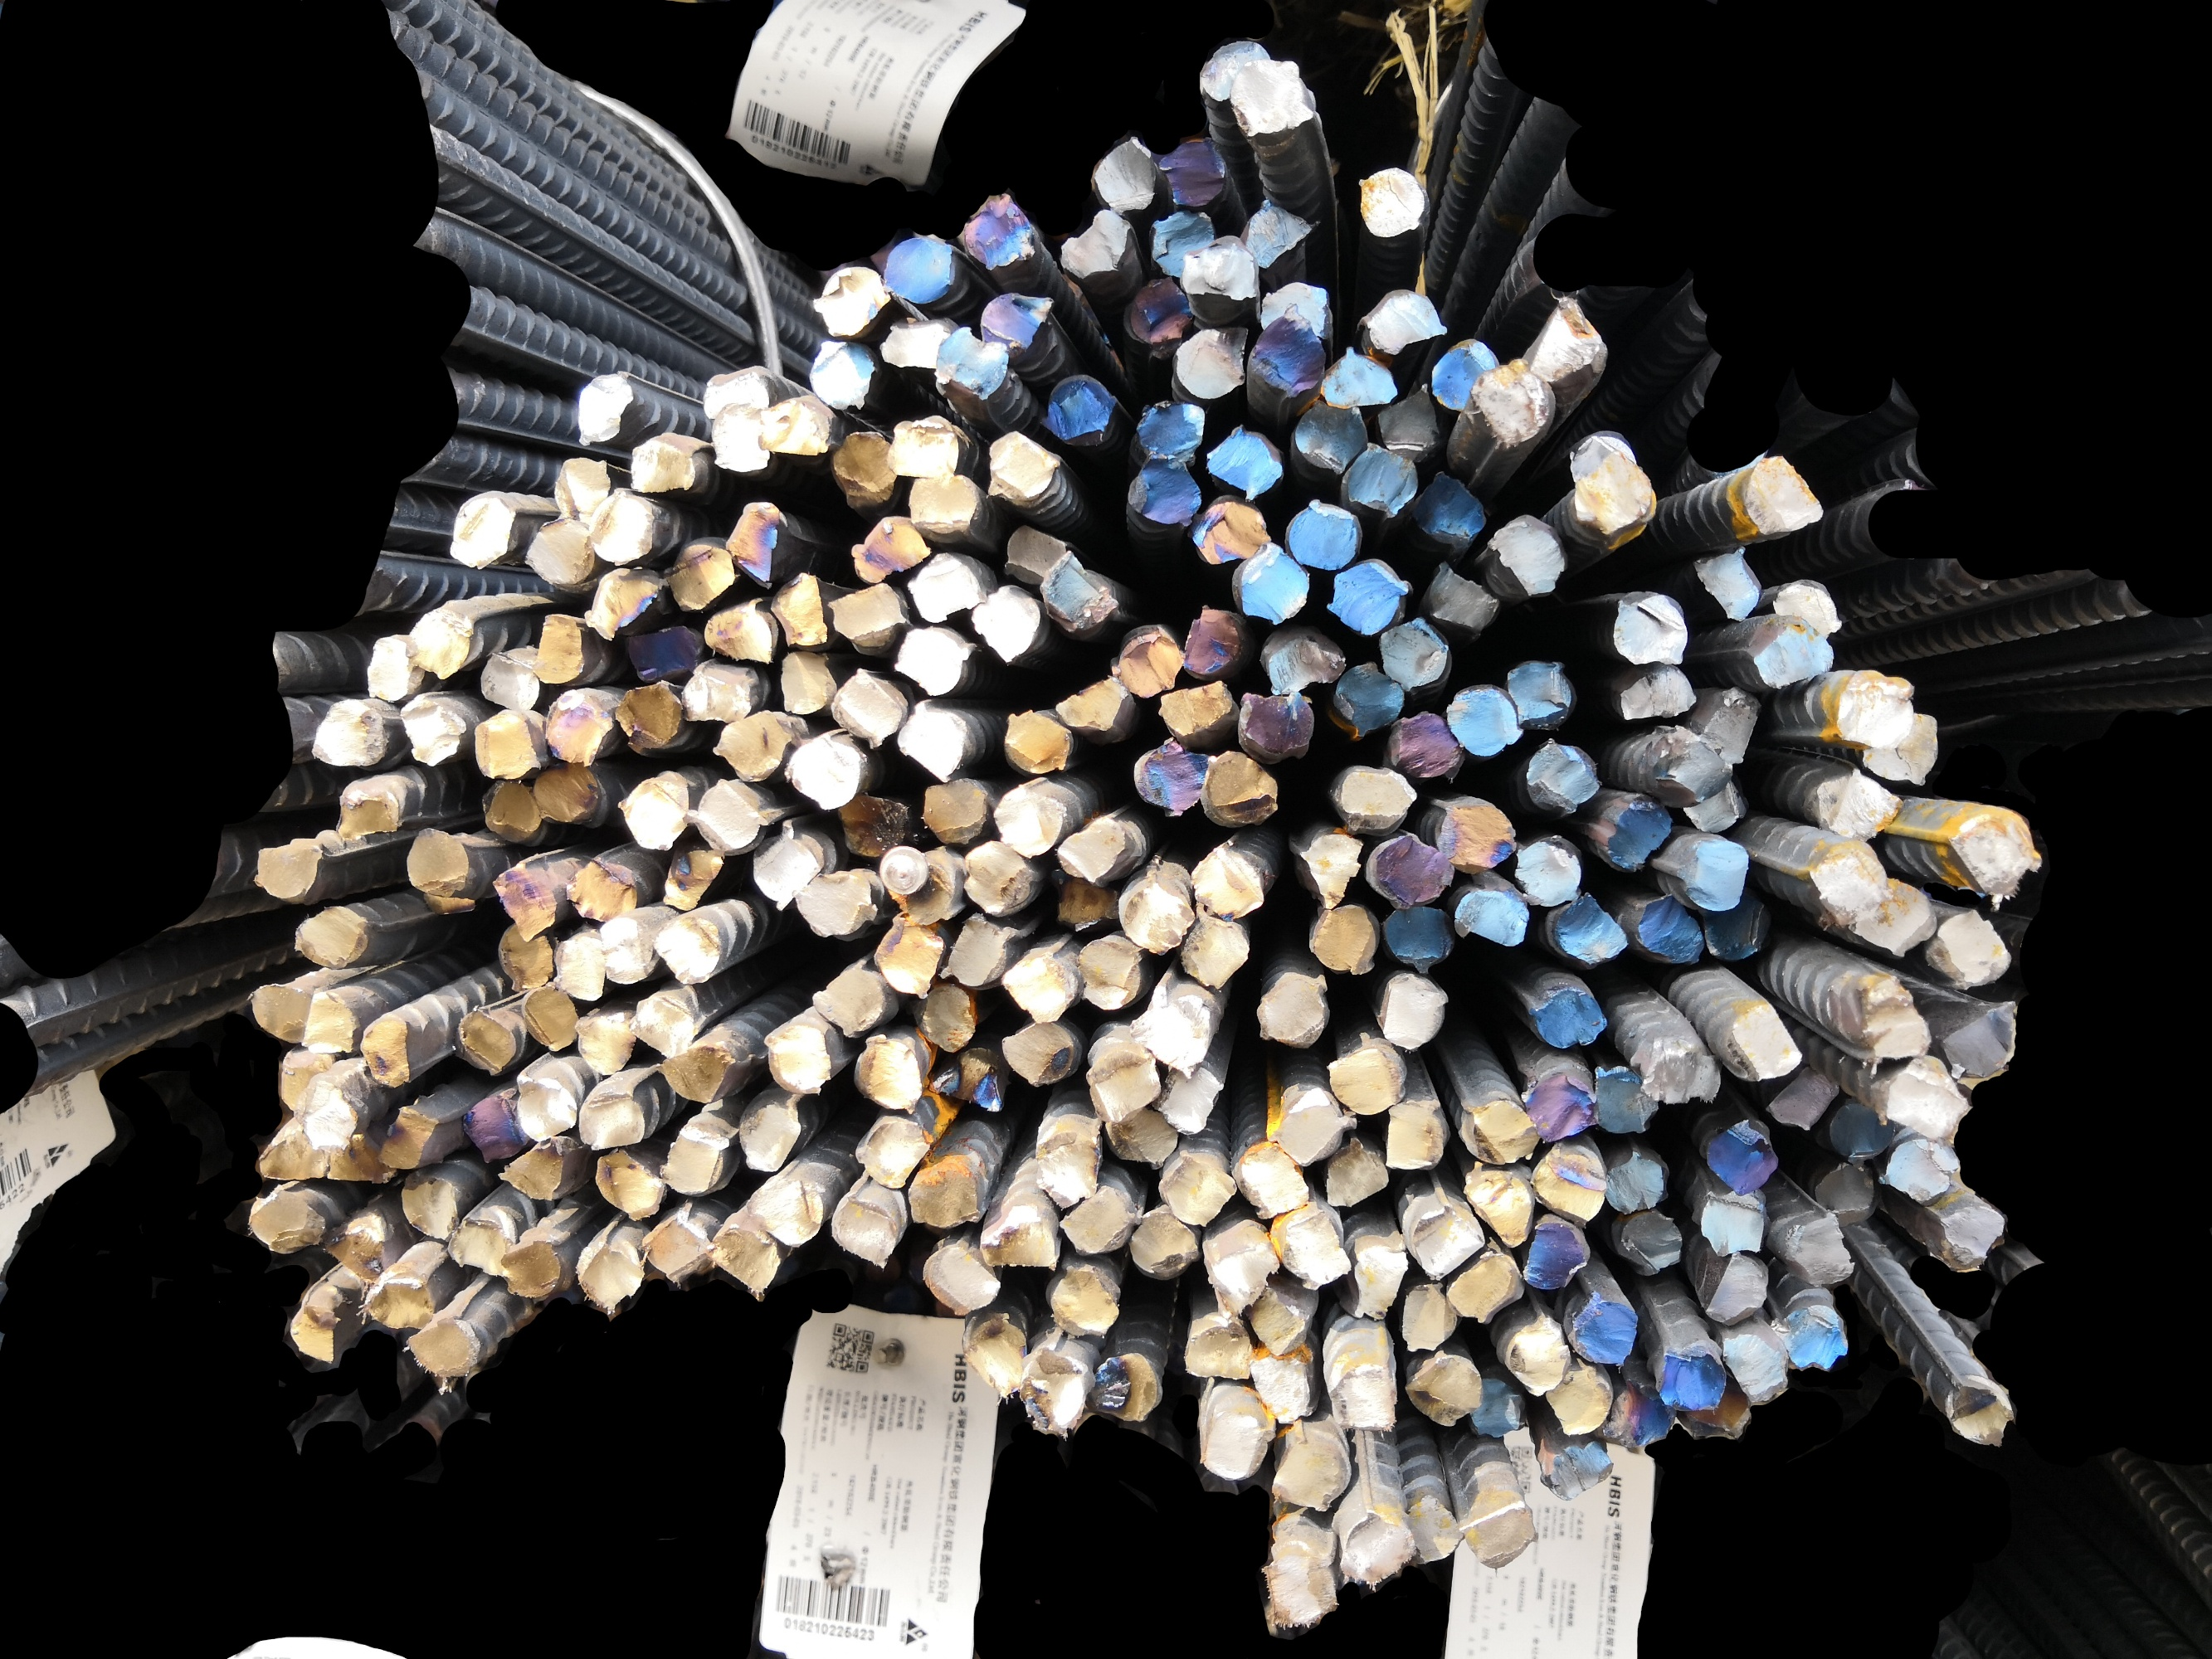rebar: (1945, 802, 2045, 899), (1731, 444, 1825, 538), (1191, 1382, 1276, 1483), (1128, 983, 1215, 1080), (1846, 873, 1940, 958), (1469, 356, 1555, 450), (1879, 1054, 1971, 1140), (1525, 293, 1611, 385), (1229, 52, 1316, 141), (1485, 511, 1572, 599), (1571, 451, 1658, 540), (1201, 1218, 1279, 1316), (1808, 767, 1905, 845), (750, 814, 826, 913), (1717, 997, 1804, 1084), (1365, 829, 1457, 911), (905, 547, 1002, 624), (1801, 838, 1890, 922), (779, 727, 865, 812), (1832, 666, 1917, 751), (882, 843, 966, 931), (1271, 1208, 1354, 1295), (1267, 1087, 1358, 1168), (636, 1194, 713, 1288), (1745, 613, 1839, 690), (689, 774, 774, 857), (1037, 547, 1121, 633), (1269, 1429, 1353, 1514), (1131, 737, 1217, 821), (1862, 704, 1947, 788), (1248, 310, 1328, 399), (1189, 835, 1269, 924), (1325, 558, 1414, 638), (580, 563, 671, 641), (1016, 1345, 1093, 1438), (1337, 437, 1419, 523), (1930, 908, 2015, 990), (1607, 587, 1693, 669), (828, 662, 906, 751), (1084, 1039, 1163, 1127), (1166, 319, 1250, 401), (1457, 1486, 1539, 1570), (981, 427, 1067, 507), (1518, 1061, 1598, 1147), (1853, 976, 1933, 1061), (713, 706, 797, 786), (1117, 873, 1198, 957), (1435, 796, 1518, 877), (1651, 727, 1734, 807), (1407, 467, 1487, 551), (1227, 1140, 1313, 1218), (572, 1236, 648, 1323), (615, 769, 692, 856), (1361, 286, 1449, 362), (1185, 495, 1276, 568), (1180, 901, 1252, 993), (903, 1154, 985, 1234), (1325, 1037, 1405, 1119), (1401, 1349, 1483, 1429), (1776, 1208, 1856, 1290), (1201, 422, 1285, 500), (1940, 999, 2024, 1077), (967, 582, 1044, 667), (1335, 762, 1421, 838), (791, 864, 879, 939), (896, 695, 967, 786), (960, 1309, 1032, 1399), (1344, 1225, 1410, 1323), (1611, 657, 1703, 727), (931, 322, 1011, 403), (988, 781, 1069, 861), (852, 1112, 933, 1192), (1337, 1507, 1417, 1588), (812, 260, 891, 342), (1410, 1201, 1489, 1283), (891, 622, 974, 699), (997, 950, 1081, 1026), (1156, 1152, 1239, 1229), (847, 514, 933, 589), (1238, 540, 1313, 626), (917, 1241, 1002, 1316), (1881, 1133, 1968, 1206), (1464, 1159, 1536, 1248), (1124, 1201, 1204, 1279), (1149, 1061, 1229, 1140), (1283, 495, 1363, 573), (744, 1175, 826, 1251), (849, 1032, 926, 1114), (1203, 749, 1285, 826), (1530, 1141, 1607, 1223), (309, 697, 392, 772), (957, 836, 1032, 920), (811, 955, 885, 1039), (1255, 967, 1330, 1051), (1377, 971, 1452, 1054), (873, 915, 947, 1000), (1056, 1183, 1142, 1256), (959, 193, 1037, 272), (1292, 397, 1370, 476), (1696, 887, 1774, 965), (1551, 889, 1630, 967), (804, 335, 880, 415), (1055, 204, 1135, 281), (1262, 1549, 1339, 1629), (1703, 1115, 1780, 1195), (1178, 234, 1260, 308), (1541, 1359, 1616, 1441), (1459, 1093, 1541, 1168), (1443, 685, 1525, 760), (1687, 542, 1762, 624), (826, 427, 899, 511), (1421, 561, 1504, 634), (1604, 789, 1675, 875), (1260, 631, 1349, 699), (591, 1145, 668, 1223), (1041, 373, 1119, 450), (1445, 1249, 1523, 1326), (1523, 737, 1602, 814), (248, 1183, 328, 1258), (655, 1122, 736, 1197), (659, 538, 739, 613), (828, 580, 908, 655), (1124, 458, 1204, 533), (934, 913, 1014, 988), (1246, 1345, 1321, 1425), (1696, 1248, 1771, 1328), (1677, 835, 1752, 915), (448, 490, 521, 572), (1335, 659, 1408, 741), (1762, 1060, 1844, 1133), (926, 1046, 1009, 1117), (1429, 333, 1501, 416), (723, 498, 786, 592), (401, 605, 478, 681), (880, 228, 957, 305), (709, 1218, 784, 1297), (1042, 1263, 1121, 1338), (289, 1073, 363, 1154), (542, 687, 615, 767), (584, 486, 657, 566), (291, 903, 373, 974), (488, 863, 560, 945), (1032, 1129, 1103, 1211), (1293, 828, 1365, 910), (1374, 382, 1443, 465), (1523, 983, 1609, 1051), (1110, 622, 1185, 699), (1053, 812, 1130, 887), (1245, 1283, 1320, 1359), (615, 678, 689, 756), (1356, 162, 1429, 240), (1379, 613, 1452, 692), (1386, 709, 1464, 782), (1511, 833, 1584, 911), (1504, 655, 1578, 734), (1633, 1040, 1722, 1105), (1234, 687, 1314, 758), (1590, 1054, 1659, 1136), (999, 1019, 1082, 1087), (1316, 343, 1401, 410), (572, 364, 636, 451), (702, 591, 777, 666), (1157, 134, 1231, 211), (1382, 899, 1455, 976), (830, 1188, 899, 1269), (1102, 1100, 1182, 1169), (401, 1314, 483, 1382), (974, 288, 1056, 356), (1091, 132, 1159, 214), (884, 413, 967, 479), (1698, 683, 1764, 767), (1673, 1377, 1759, 1441), (523, 514, 596, 589), (1325, 1359, 1398, 1434), (1198, 31, 1271, 106), (1307, 903, 1382, 976), (1517, 1216, 1590, 1291), (762, 1021, 833, 1098), (563, 852, 640, 924), (472, 706, 544, 782), (833, 789, 910, 861), (906, 469, 983, 540), (1072, 938, 1143, 1014), (1089, 1349, 1161, 1425), (1605, 1373, 1677, 1450), (736, 1096, 805, 1175), (399, 688, 469, 767), (1503, 1319, 1572, 1398), (1675, 770, 1757, 836), (657, 1040, 741, 1105), (767, 568, 831, 652), (877, 308, 960, 373), (1182, 1312, 1255, 1385), (1635, 892, 1708, 965), (1238, 199, 1313, 270), (1123, 275, 1194, 350), (1567, 1295, 1642, 1366), (1698, 1188, 1773, 1260), (403, 826, 472, 903), (1945, 1373, 2015, 1450), (357, 1267, 438, 1333), (460, 1086, 526, 1166), (1154, 678, 1236, 742), (497, 1133, 568, 1206), (920, 775, 992, 849), (1612, 1209, 1686, 1281), (1149, 206, 1218, 281), (708, 397, 776, 474), (1564, 427, 1642, 493), (1182, 601, 1246, 681), (652, 913, 723, 985), (1809, 1157, 1881, 1229), (1935, 1201, 2006, 1272), (628, 992, 701, 1061), (530, 756, 600, 829), (1464, 1370, 1534, 1443), (450, 1002, 518, 1077), (573, 1086, 648, 1154), (757, 392, 831, 460), (1325, 1136, 1393, 1211), (1722, 1331, 1790, 1406), (1769, 572, 1844, 640), (1382, 1096, 1449, 1173), (976, 1218, 1062, 1277), (1454, 885, 1532, 950), (622, 622, 702, 685), (1051, 673, 1131, 735), (1401, 1492, 1464, 1572), (249, 1124, 331, 1185), (1001, 708, 1072, 777), (1658, 1345, 1727, 1417), (1778, 1304, 1849, 1373), (1539, 1436, 1614, 1502), (356, 1014, 420, 1091), (678, 662, 755, 727), (910, 985, 980, 1054), (1600, 1145, 1670, 1215), (511, 1072, 579, 1143), (626, 430, 697, 498), (1135, 397, 1208, 464), (363, 631, 427, 706), (1255, 279, 1330, 343), (493, 915, 554, 993), (662, 840, 729, 911), (1827, 1096, 1898, 1162), (444, 1215, 518, 1279), (596, 913, 661, 986), (1398, 1281, 1461, 1356), (251, 838, 328, 899), (777, 641, 838, 718), (476, 774, 542, 843), (518, 981, 580, 1054), (551, 453, 614, 526), (999, 523, 1072, 586), (528, 610, 587, 687), (570, 1011, 638, 1077), (248, 979, 312, 1049), (553, 929, 612, 1004), (377, 1105, 441, 1173), (1053, 871, 1123, 934), (399, 1173, 460, 1244), (699, 362, 774, 420), (499, 1236, 565, 1300), (478, 645, 540, 713), (277, 1044, 336, 1115), (300, 988, 359, 1056), (333, 784, 401, 842), (326, 1133, 397, 1187), (324, 1227, 387, 1286), (417, 873, 483, 920), (289, 1307, 340, 1364)
